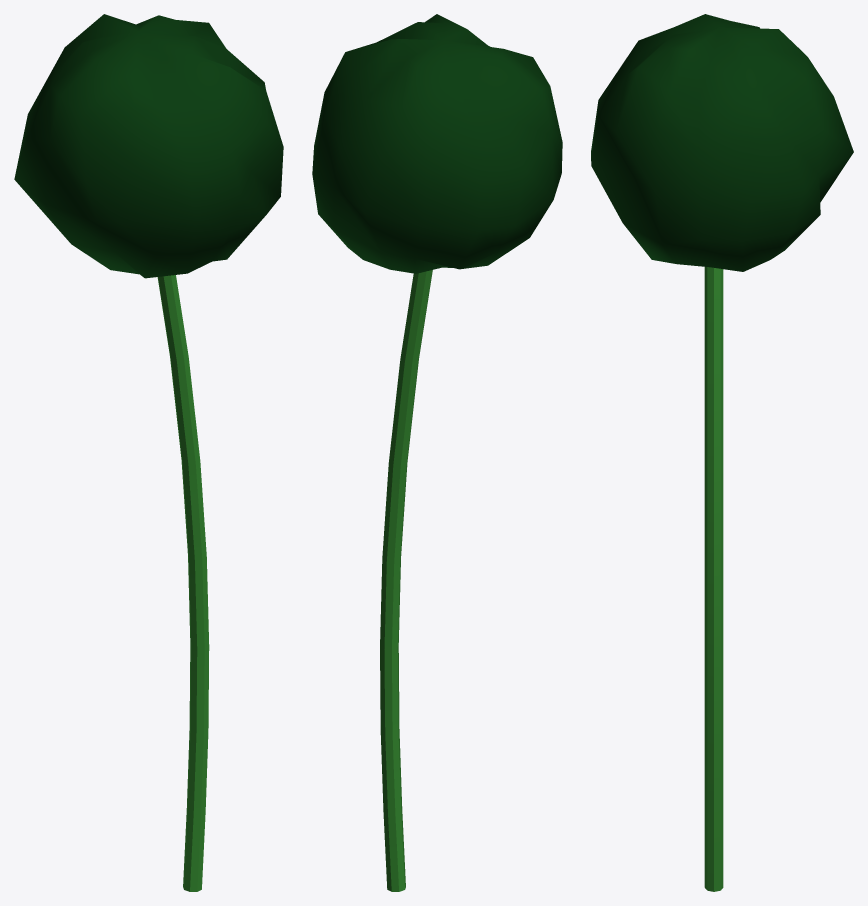
The model's file is Tree02_Mapa08_DBZ.FBX.
3 renders of one model, left to right at view 1: azimuth 30°, elevation 25°; view 2: azimuth 150°, elevation 25°; view 3: azimuth 270°, elevation 25°, orthographic. The views are drawn at different scales.
Visible parts, largest first — view 1: Sphere001, Line001; view 2: Sphere001, Line001; view 3: Sphere001, Line001.
Boxes of the visible parts, x1,y1,x2,y2 form: Sphere001: (14, 14, 283, 278); Line001: (157, 275, 209, 891); Sphere001: (312, 14, 562, 273); Line001: (380, 270, 432, 891); Sphere001: (591, 14, 853, 271); Line001: (704, 267, 723, 891).
Bounding box in the file's own units: 53.73 × 202 × 57.43.
